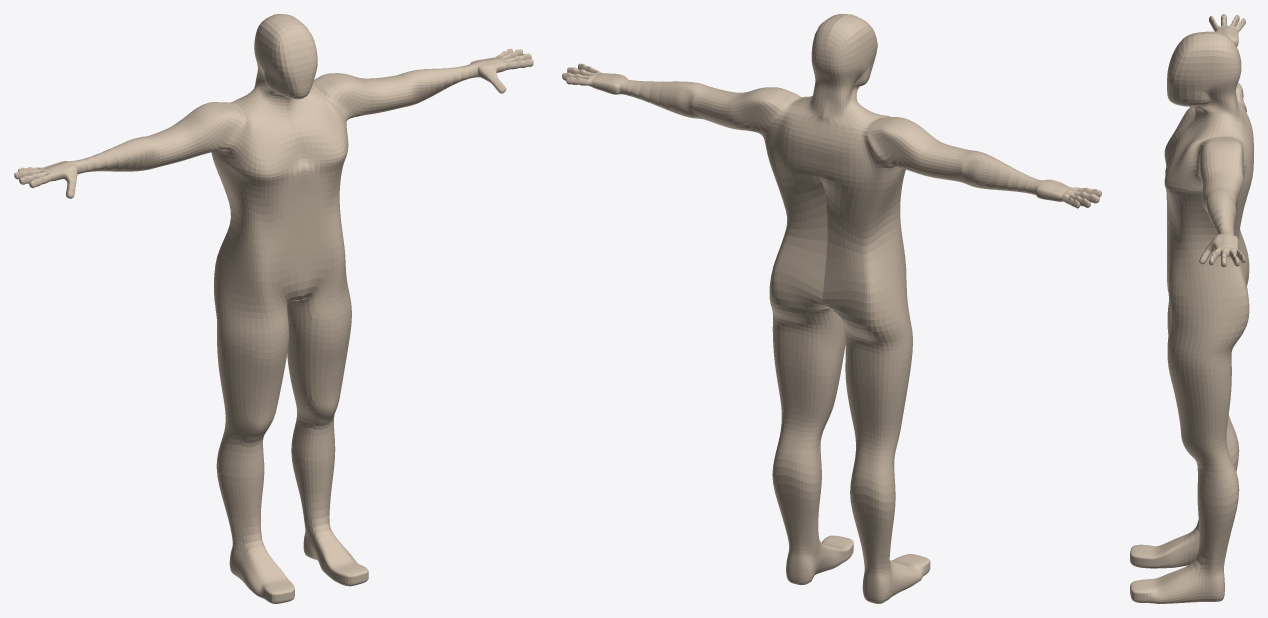
File: Player basic.fbx
3 renders of one model, left to right at view 1: azimuth 30°, elevation 25°; view 2: azimuth 150°, elevation 25°; view 3: azimuth 270°, elevation 25°, orthographic. The views are drawn at different scales.
Visible parts, largest first — view 1: Figure; view 2: Figure; view 3: Figure.
Boxes of the visible parts, x1=… form: Figure: x1=14, y1=14, x2=533, y2=603; Figure: x1=562, y1=14, x2=1101, y2=603; Figure: x1=1130, y1=14, x2=1253, y2=603.
Size of the model in its own units: 189 by 194 by 39.85.
